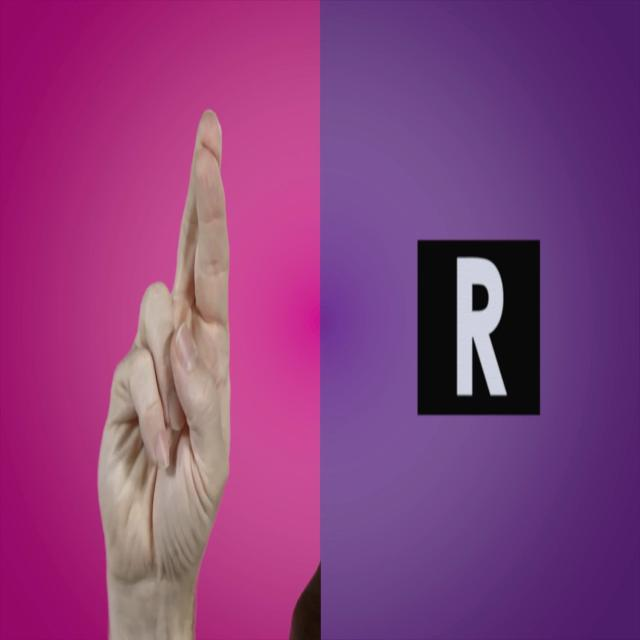R: (85, 84, 257, 640)
